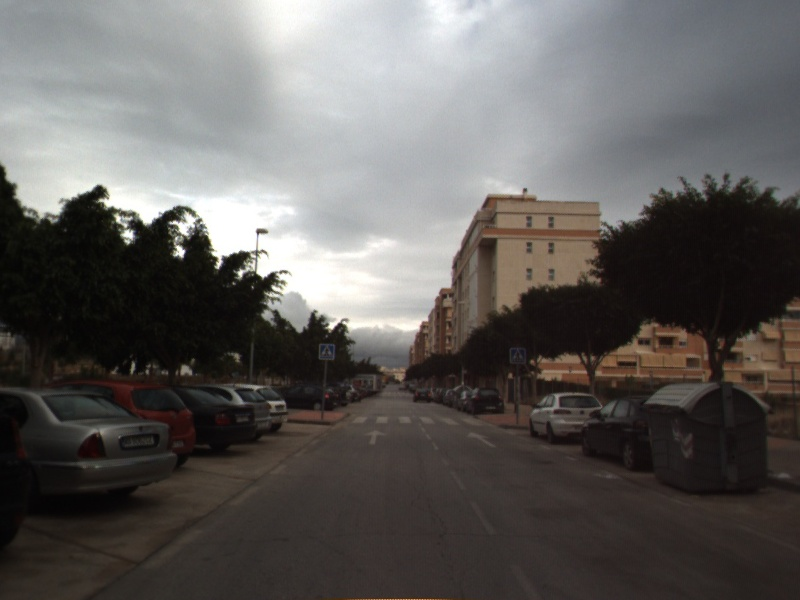STRAIGHT: (465, 430, 498, 449), (362, 428, 389, 446)
